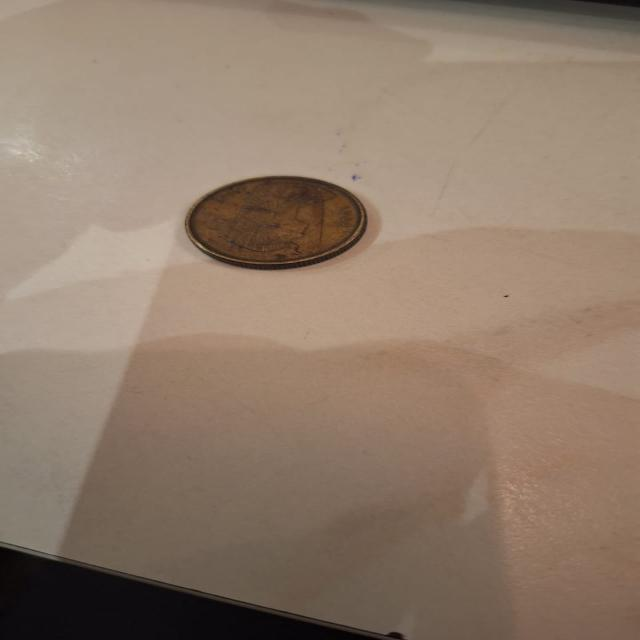Half Pound: (174, 152, 387, 281)
